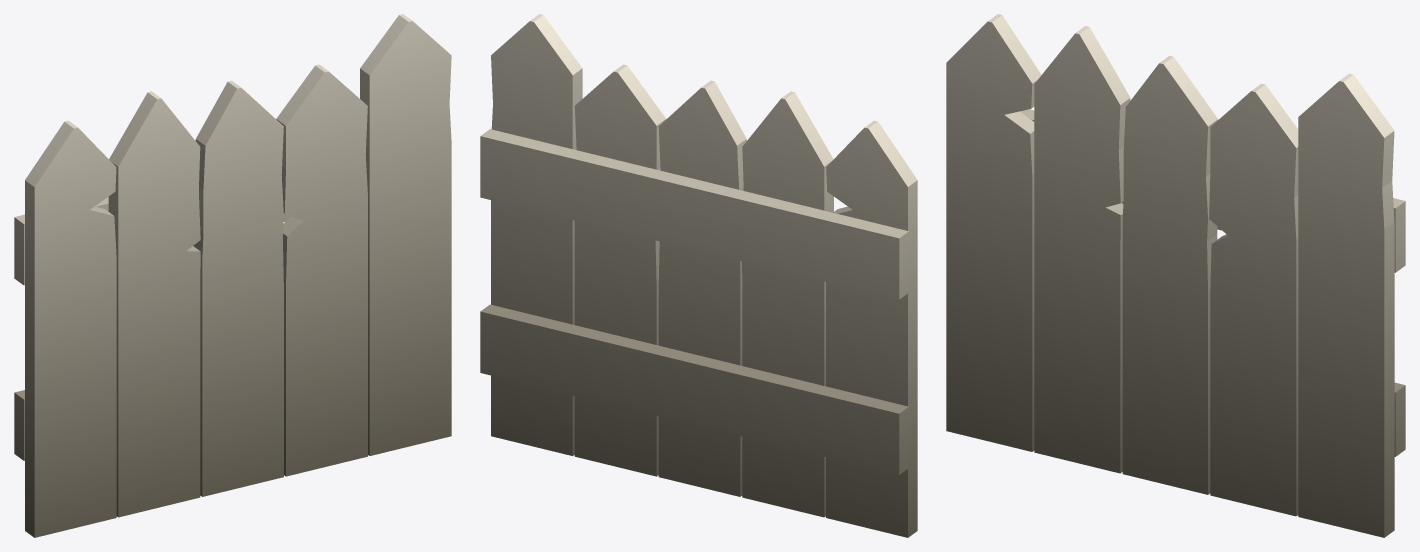
File: White2.glb
3 views of the same model, side by side, from view 1: azimuth 30°, elevation 25°; view 2: azimuth 150°, elevation 25°; view 3: azimuth 330°, elevation 25° (orthographic). The views are drawn at different scales.
Parts seen in each view (by area): view 1: White2.001; view 2: White2.001; view 3: White2.001.
Part boxes in pixels (x1,y1,x2,y2): White2.001: [14, 14, 451, 537]; White2.001: [480, 14, 917, 537]; White2.001: [946, 14, 1405, 537].
Bounding box in the file's own units: 10 × 9.68 × 0.8002.
1 material, 1 textured.
